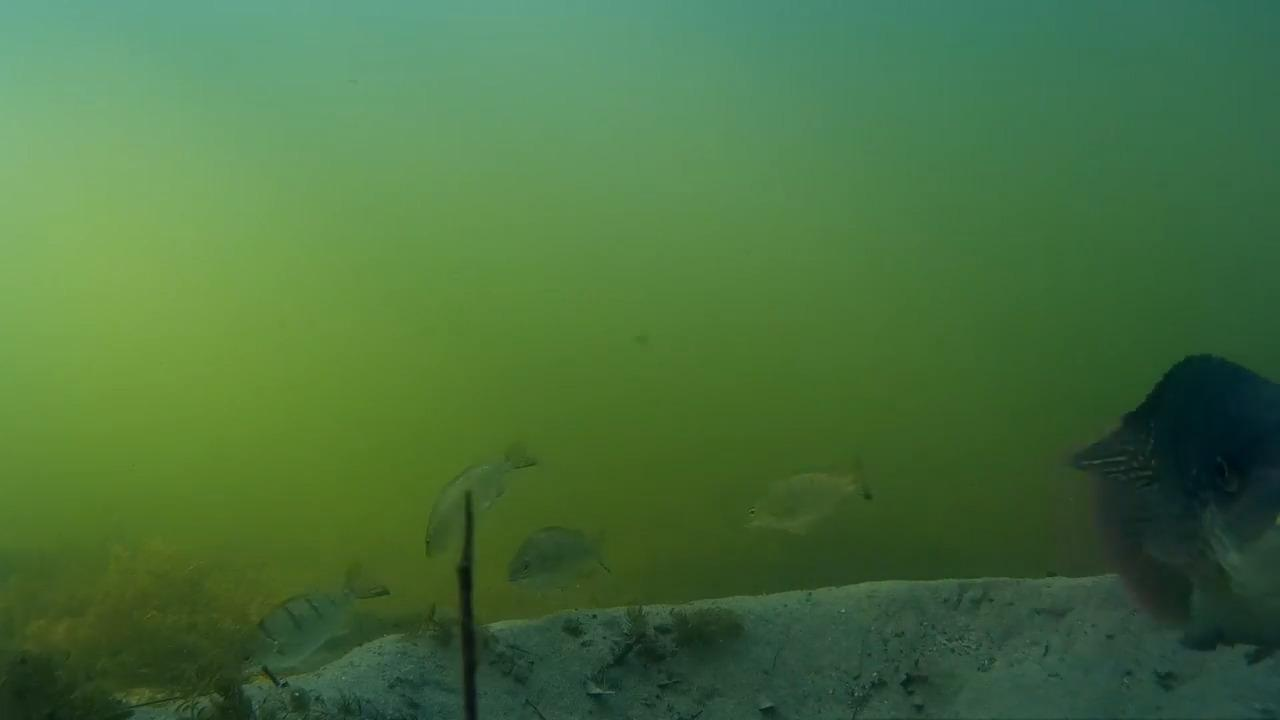Tilapia: (1055, 346, 1280, 680), (231, 573, 413, 699), (492, 514, 645, 622), (423, 430, 536, 564), (723, 461, 887, 543)
